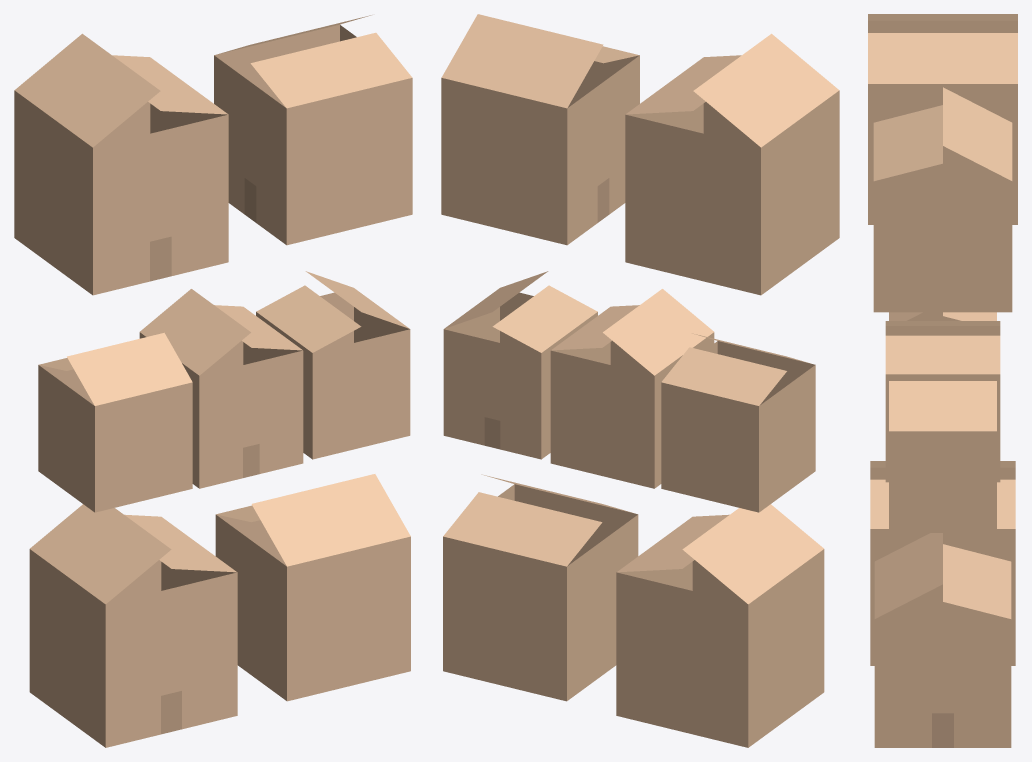
3 renders of one model, left to right at view 1: azimuth 30°, elevation 25°; view 2: azimuth 150°, elevation 25°; view 3: azimuth 270°, elevation 25°, orthographic. The views are drawn at different scales.
Visible parts, largest first — view 1: Kartongpaket · 7 kartonger; view 2: Kartongpaket · 7 kartonger; view 3: Kartongpaket · 7 kartonger.
Boxes of the visible parts, x1,y1,x2,y2 form: Kartongpaket · 7 kartonger: (14, 15, 412, 747); Kartongpaket · 7 kartonger: (441, 14, 839, 747); Kartongpaket · 7 kartonger: (868, 14, 1017, 747).
Bounding box in the file's own units: 0.8225 × 1.54 × 0.34.
